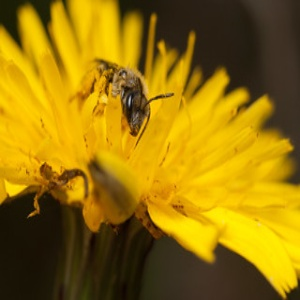bee: (65, 56, 175, 159)
